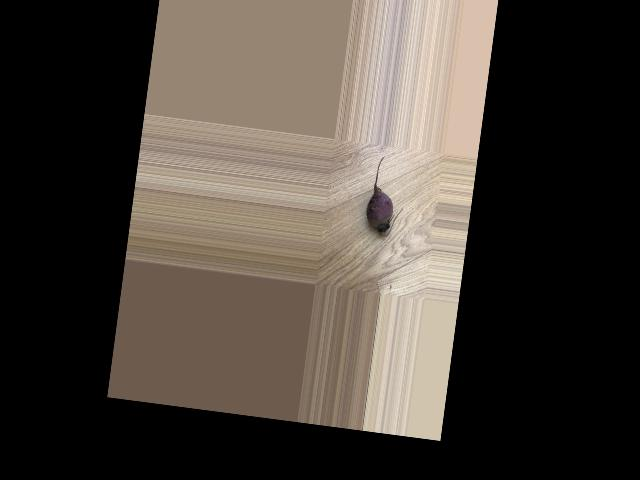beet: (363, 154, 409, 238)
